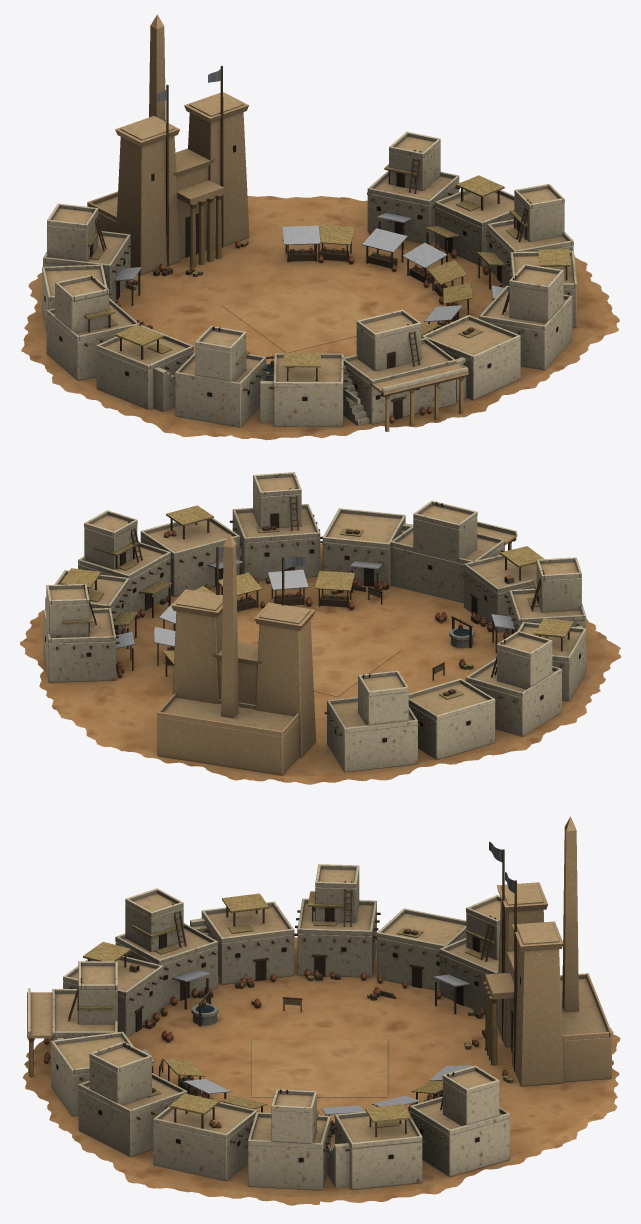
Rendered from bronze-town-medium-b-d78cce26.glb.
3 renders of one model, top to bottom at view 1: azimuth 30°, elevation 25°; view 2: azimuth 150°, elevation 25°; view 3: azimuth 270°, elevation 25°, orthographic. The views are drawn at different scales.
Parts seen in each view (by area): view 1: LOD0; view 2: LOD0; view 3: LOD0.
Part boxes in pixels (x1,y1,x2,y2): LOD0: (21,14,619,440); LOD0: (20,472,620,784); LOD0: (22,816,620,1205).
Size of what is drawn, in the model's own units: 5.92 by 2.4 by 5.6.
Materials: 3 (3 with a texture image).
